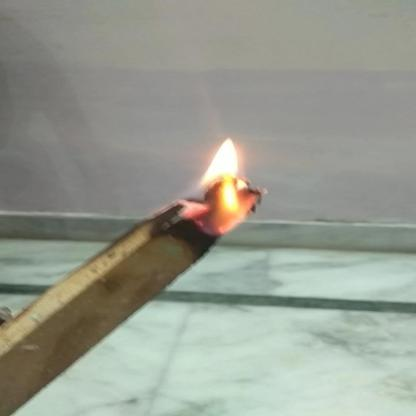fire: (176, 132, 272, 239)
